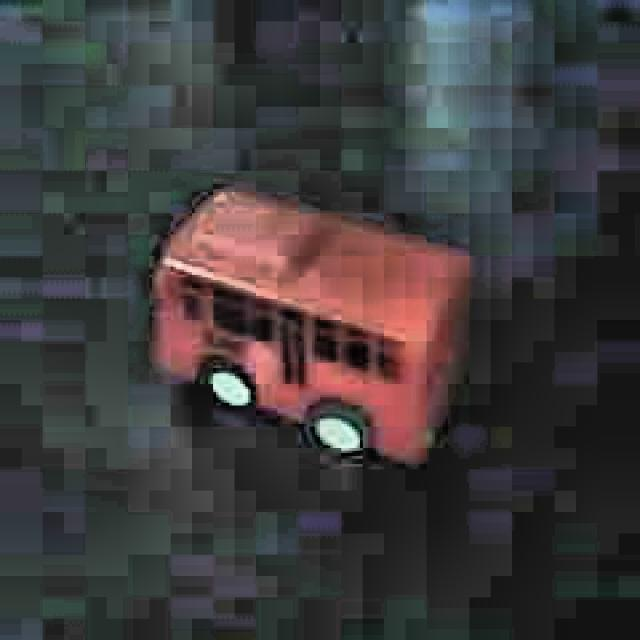bus: (144, 186, 476, 470)
